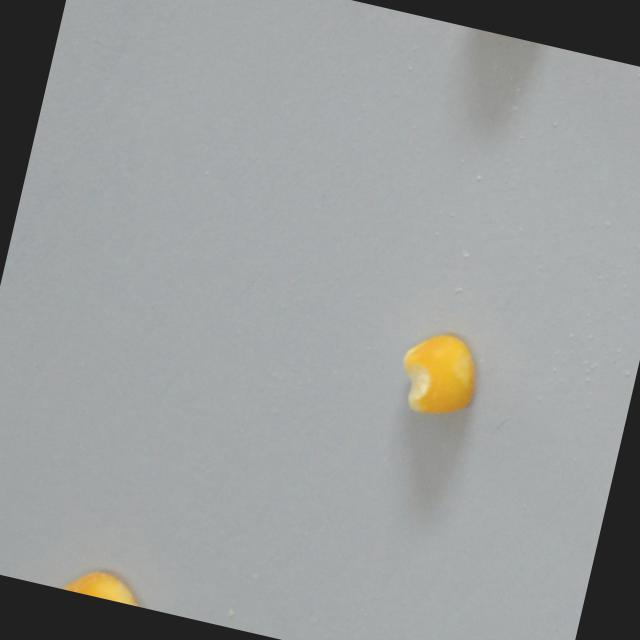no_canjicado: (392, 326, 483, 424)
pelicula: (33, 557, 156, 609)
